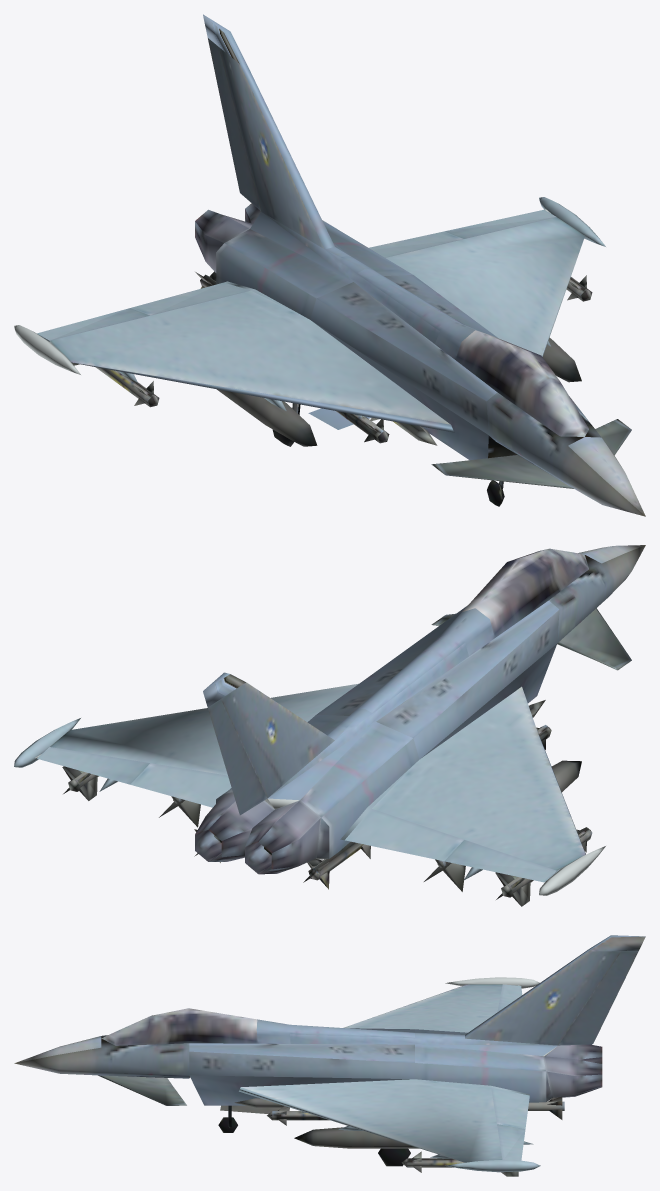
Rendered from EFT.obj.
The picture shows the model from 3 angles, top to bottom: view 1: azimuth 30°, elevation 25°; view 2: azimuth 150°, elevation 25°; view 3: azimuth 270°, elevation 25°; orthographic projection. The views are drawn at different scales.
Visible parts, largest first — view 1: EFT.Chassis, Cockpit, Breaks, Wings.Flaps, Rudder, BMB250.02, BMB250.01, SRAAMRht03; view 2: EFT.Chassis, Breaks, Cockpit, Wings.Flaps, Rudder, BMB250.02, SRAAMRht02, SRAAMRht03, SRAAMLft03; view 3: EFT.Chassis, Cockpit, Rudder, BMB250.01, Wings.Flaps, Breaks, SRAAMLft03, IRMLft, Gear.BackLft, SRAAMLft02, Gear.Front.Lid.
Part boxes in pixels (x1=…): EFT.Chassis: x1=14, y1=14, x2=645, y2=516; Cockpit: x1=455, y1=330, x2=588, y2=436; Breaks: x1=131, y1=231, x2=463, y2=315; Wings.Flaps: x1=37, y1=209, x2=556, y2=345; Rudder: x1=208, y1=38, x2=260, y2=210; BMB250.02: x1=217, y1=389, x2=317, y2=446; BMB250.01: x1=542, y1=337, x2=581, y2=382; SRAAMRht03: x1=71, y1=362, x2=159, y2=407; EFT.Chassis: x1=14, y1=545, x2=645, y2=895; Breaks: x1=130, y1=763, x2=463, y2=861; Cockpit: x1=462, y1=548, x2=588, y2=637; Wings.Flaps: x1=37, y1=747, x2=556, y2=882; Rudder: x1=207, y1=699, x2=267, y2=815; BMB250.02: x1=424, y1=760, x2=581, y2=891; SRAAMRht02: x1=303, y1=841, x2=370, y2=889; SRAAMRht03: x1=495, y1=827, x2=592, y2=906; SRAAMLft03: x1=62, y1=766, x2=98, y2=800; EFT.Chassis: x1=14, y1=935, x2=645, y2=1172; Cockpit: x1=101, y1=1008, x2=257, y2=1045; Rudder: x1=558, y1=950, x2=638, y2=1045; BMB250.01: x1=294, y1=1127, x2=419, y2=1148; Wings.Flaps: x1=497, y1=984, x2=525, y2=1160; Breaks: x1=491, y1=1087, x2=529, y2=1128; SRAAMLft03: x1=401, y1=1151, x2=518, y2=1176; IRMLft: x1=267, y1=1106, x2=329, y2=1125; Gear.BackLft: x1=378, y1=1148, x2=410, y2=1166; SRAAMLft02: x1=528, y1=1097, x2=564, y2=1119; Gear.Front.Lid: x1=220, y1=1105, x2=289, y2=1113.
Size of the model in its own units: 11.22 by 5.48 by 15.95.
